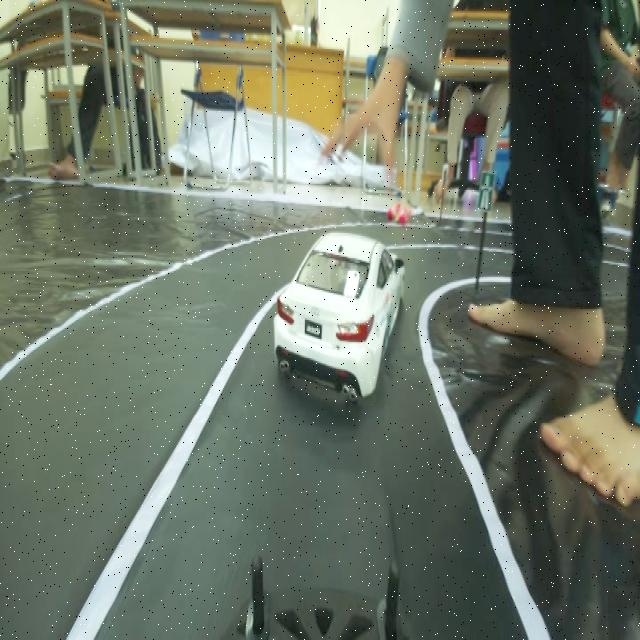car: (275, 213, 403, 422)
highway_entry: (473, 171, 499, 214)
